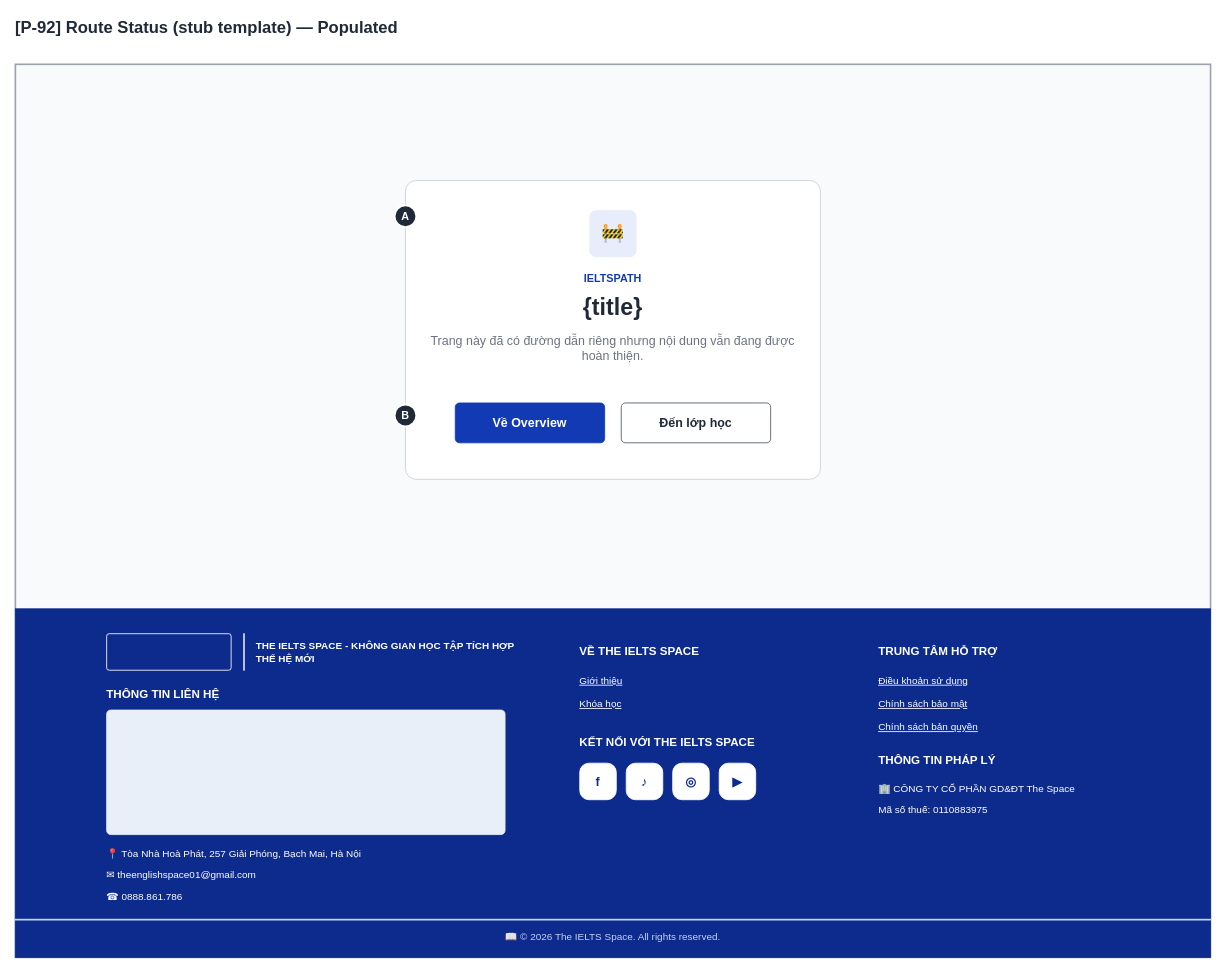
Some shapes in this 1225 by 972 pixel diagram are drawn without their labels. The shapes that lost their labels are listed below. From the top down, each one's centre as x and y in pixels, then its label:
At point (168, 651): "IELTS Space logo".
At point (305, 772): "📍 The IELTS Space Mở trong Maps ↗".
